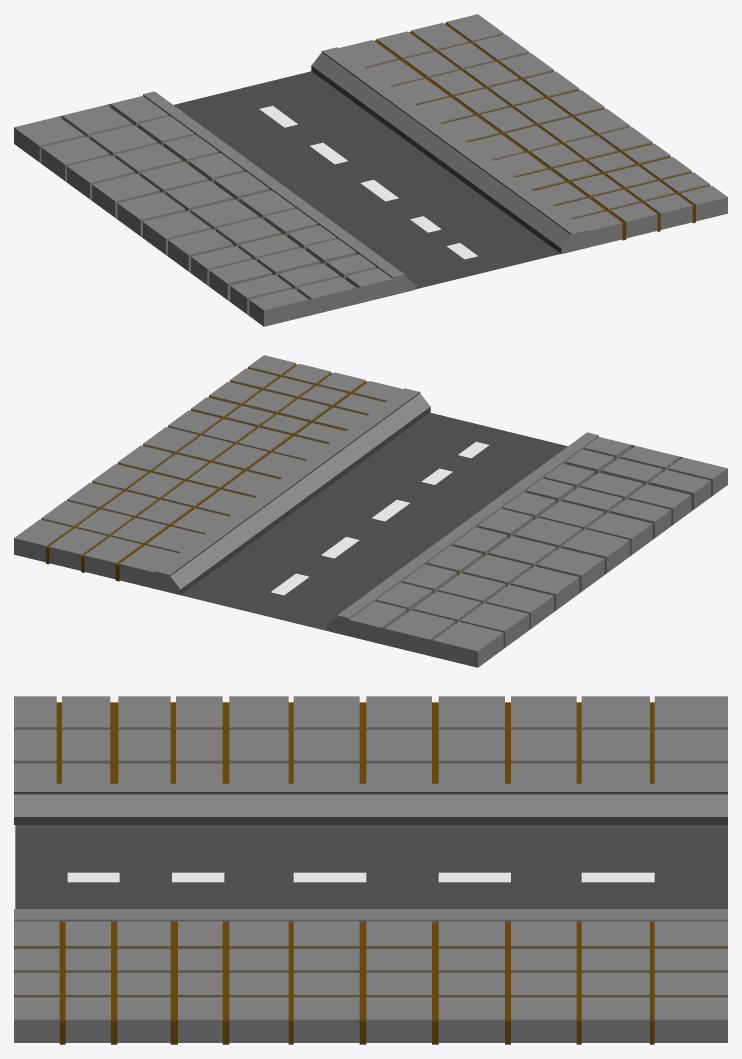
The model's file is weg.fbx.
3 views of the same model, one above another, from view 1: azimuth 30°, elevation 25°; view 2: azimuth 150°, elevation 25°; view 3: azimuth 270°, elevation 25° (orthographic). The views are drawn at different scales.
Parts seen in each view (by area): view 1: Plane; view 2: Plane; view 3: Plane.
Boxes of the visible parts, left/top/right/bottom form: Plane: left=14, top=14, right=727, bottom=326; Plane: left=14, top=355, right=727, bottom=667; Plane: left=14, top=696, right=727, bottom=1044.
Size of the model in its own units: 2192 by 87.5 by 2046.
